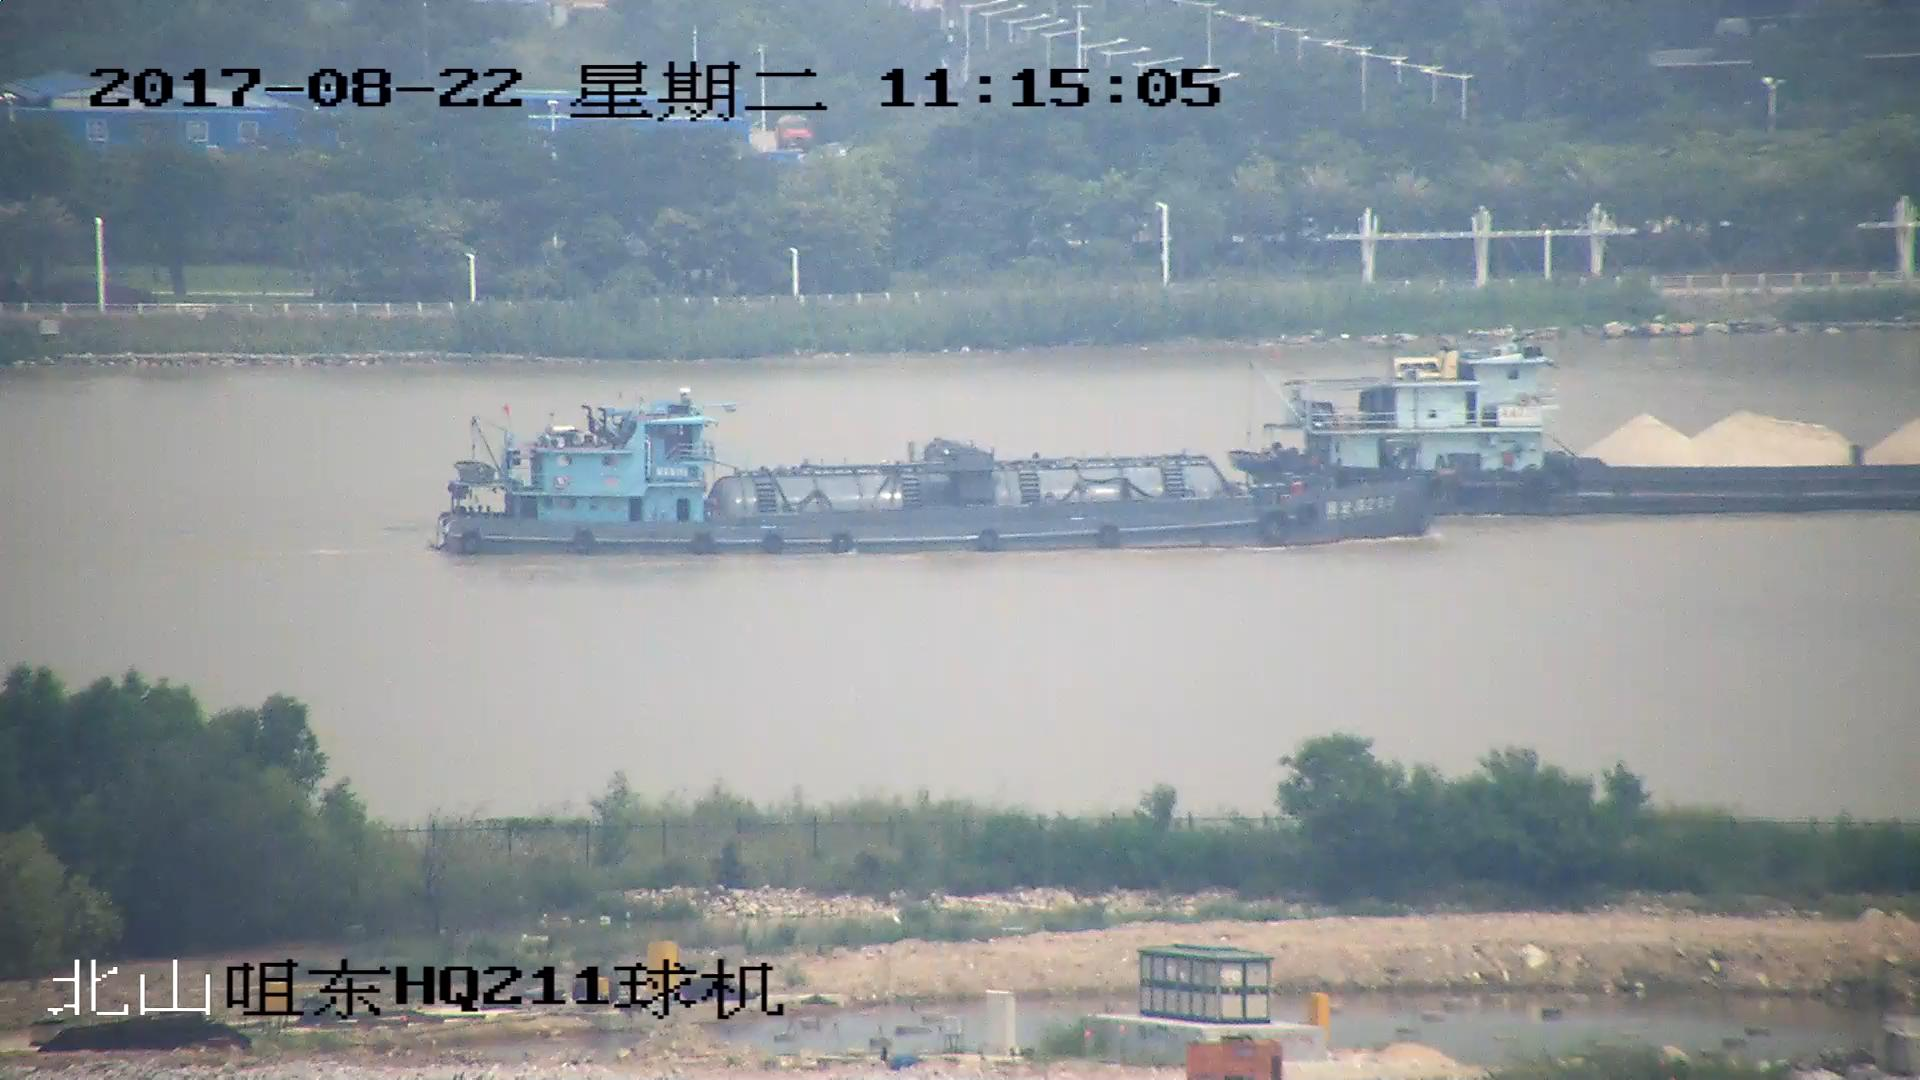bulk cargo carrier: (427, 401, 1446, 556)
ore carrier: (1248, 352, 1920, 512)
